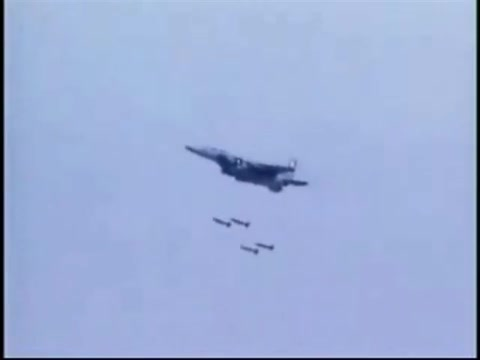aeroplane: (185, 143, 310, 194)
